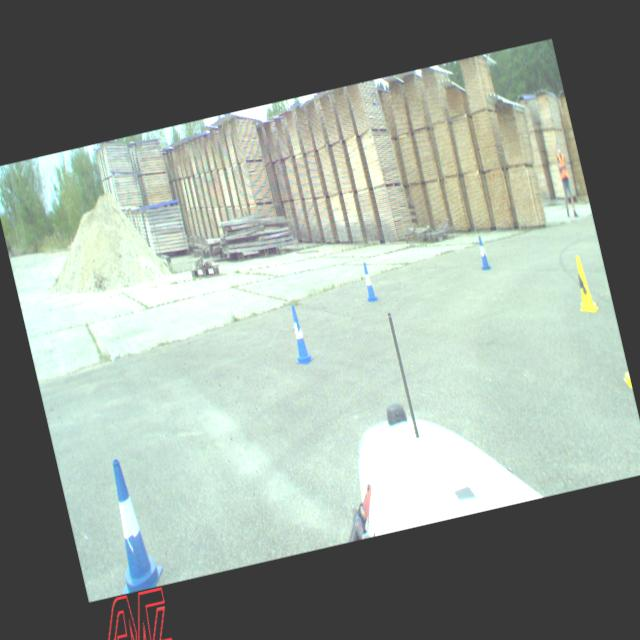blue_cone: (94, 453, 166, 592), (284, 303, 314, 365), (359, 260, 377, 302), (474, 233, 490, 270)
yellow_cone: (567, 252, 599, 316)
